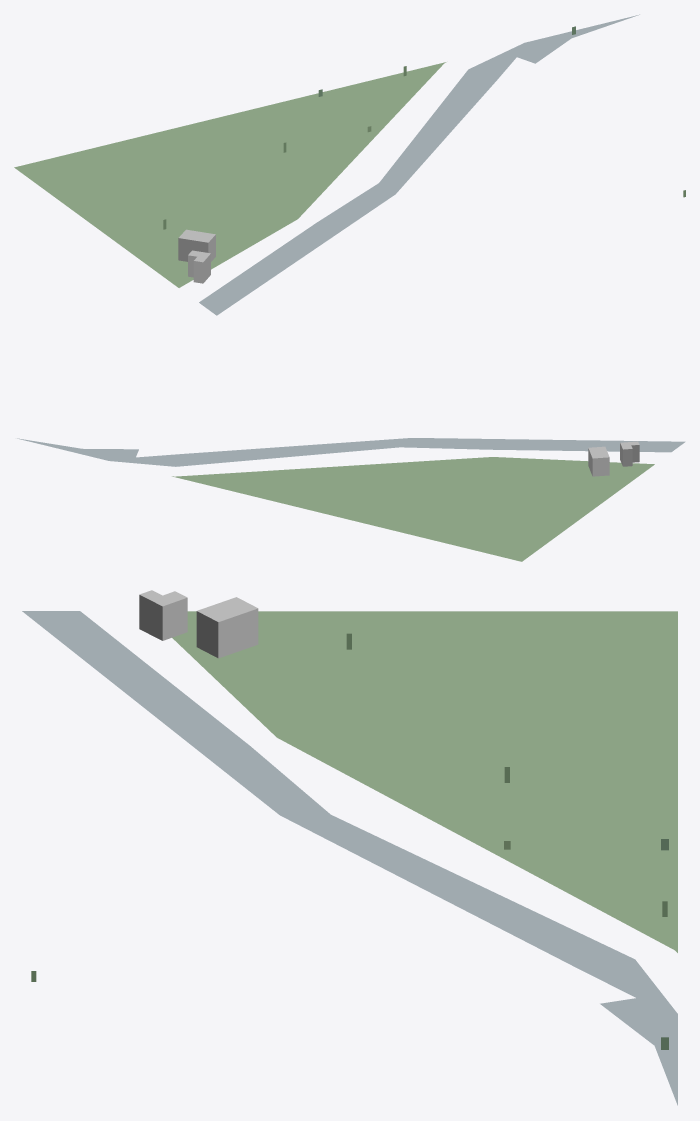
3 views of the same model, one above another, from view 1: azimuth 30°, elevation 25°; view 2: azimuth 150°, elevation 25°; view 3: azimuth 270°, elevation 25° (orthographic). The views are drawn at different scales.
Bounding box in the file's own units: 446 × 15.54 × 250.
